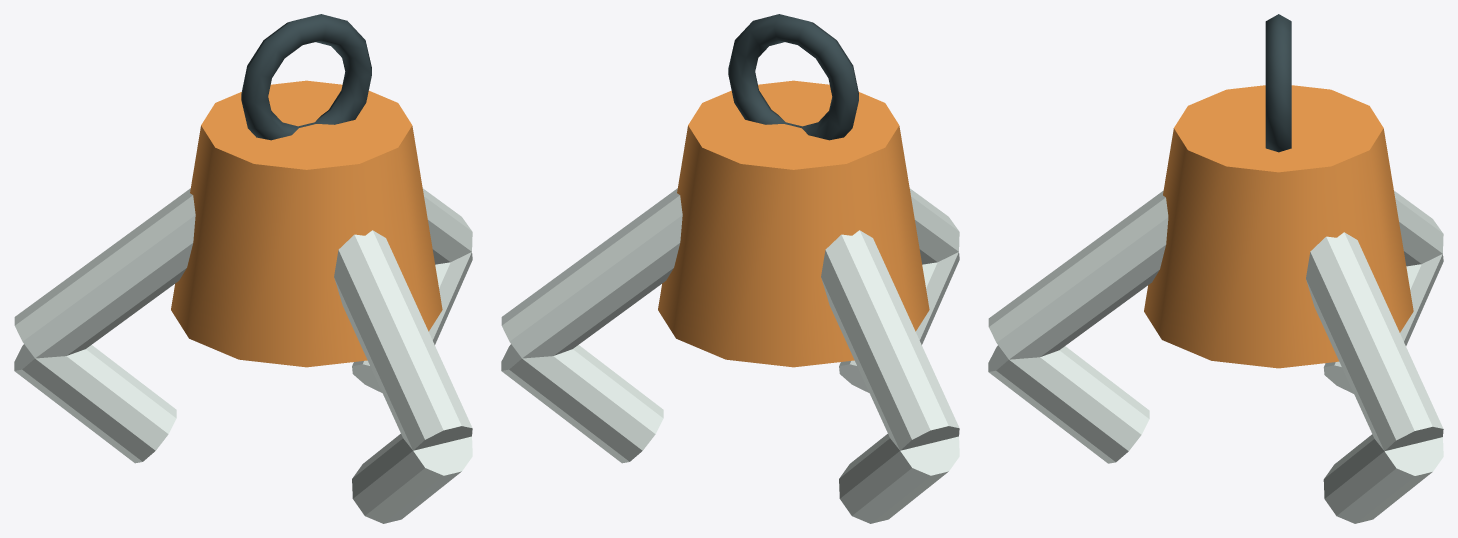
The model's file is diving-and-underwater-salvage-salvage-claw-23b5baf2__28454.glb.
3 views of the same model, side by side, from view 1: azimuth 30°, elevation 25°; view 2: azimuth 150°, elevation 25°; view 3: azimuth 270°, elevation 25° (orthographic).
Visible parts, largest first — view 1: salvage-claw-orange, salvage-claw-pale, salvage-claw-dark; view 2: salvage-claw-orange, salvage-claw-pale, salvage-claw-dark; view 3: salvage-claw-orange, salvage-claw-pale, salvage-claw-dark.
Boxes of the visible parts, x1,y1,x2,y2 form: salvage-claw-orange: (171,80,442,367); salvage-claw-pale: (14,188,472,523); salvage-claw-dark: (241,14,371,140); salvage-claw-orange: (658,80,929,367); salvage-claw-pale: (501,188,959,523); salvage-claw-dark: (728,14,858,140); salvage-claw-orange: (1144,85,1413,368); salvage-claw-pale: (988,190,1443,523); salvage-claw-dark: (1265,14,1291,152).
Size of the model in its own units: 0.6895 by 0.6452 by 0.6077.
